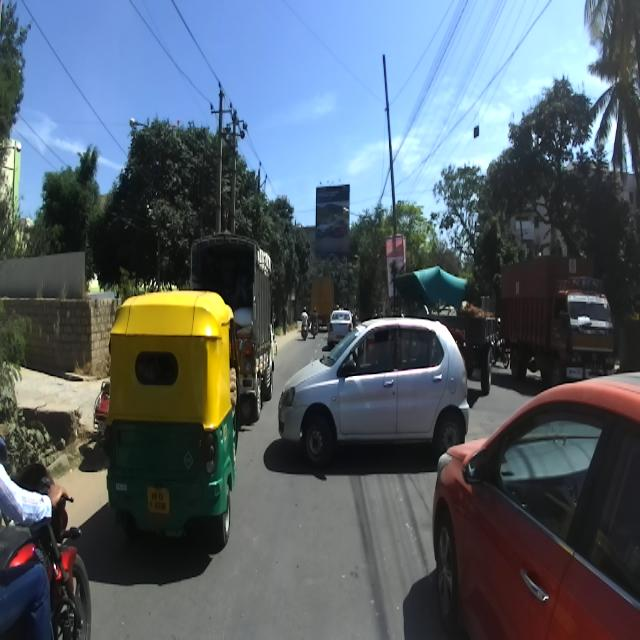auto ahead at: (96, 292, 241, 551)
car ahead at: (282, 310, 472, 481)
